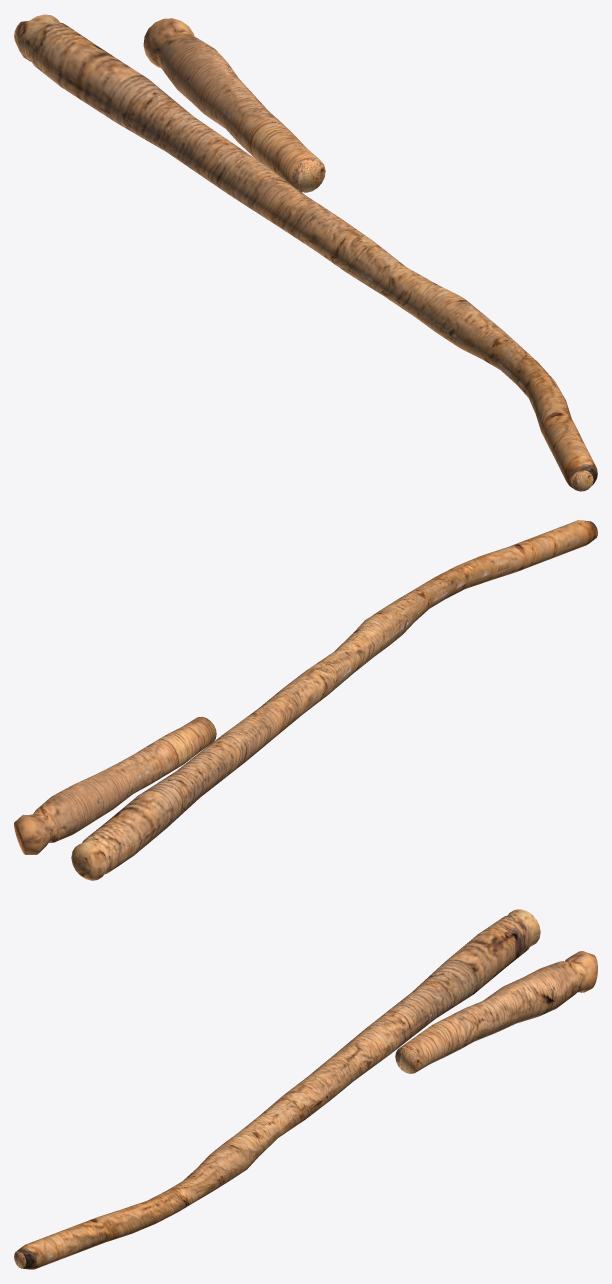
Rendered from dangshen.FBX.
The picture shows the model from 3 angles, top to bottom: view 1: azimuth 30°, elevation 25°; view 2: azimuth 150°, elevation 25°; view 3: azimuth 330°, elevation 25°; orthographic projection. The views are drawn at different scales.
Parts seen in each view (by area): view 1: Cylinder001, Cylinder002; view 2: Cylinder001, Cylinder002; view 3: Cylinder001, Cylinder002.
Part boxes in pixels (x1,y1,x2,y2): Cylinder001: (14, 14, 597, 491); Cylinder002: (143, 18, 325, 192); Cylinder001: (71, 520, 597, 880); Cylinder002: (14, 717, 216, 854); Cylinder001: (14, 909, 540, 1269); Cylinder002: (395, 951, 597, 1073).
Size of the model in its own units: 157 by 49.58 by 910.
Materials: 1 (1 with a texture image).
